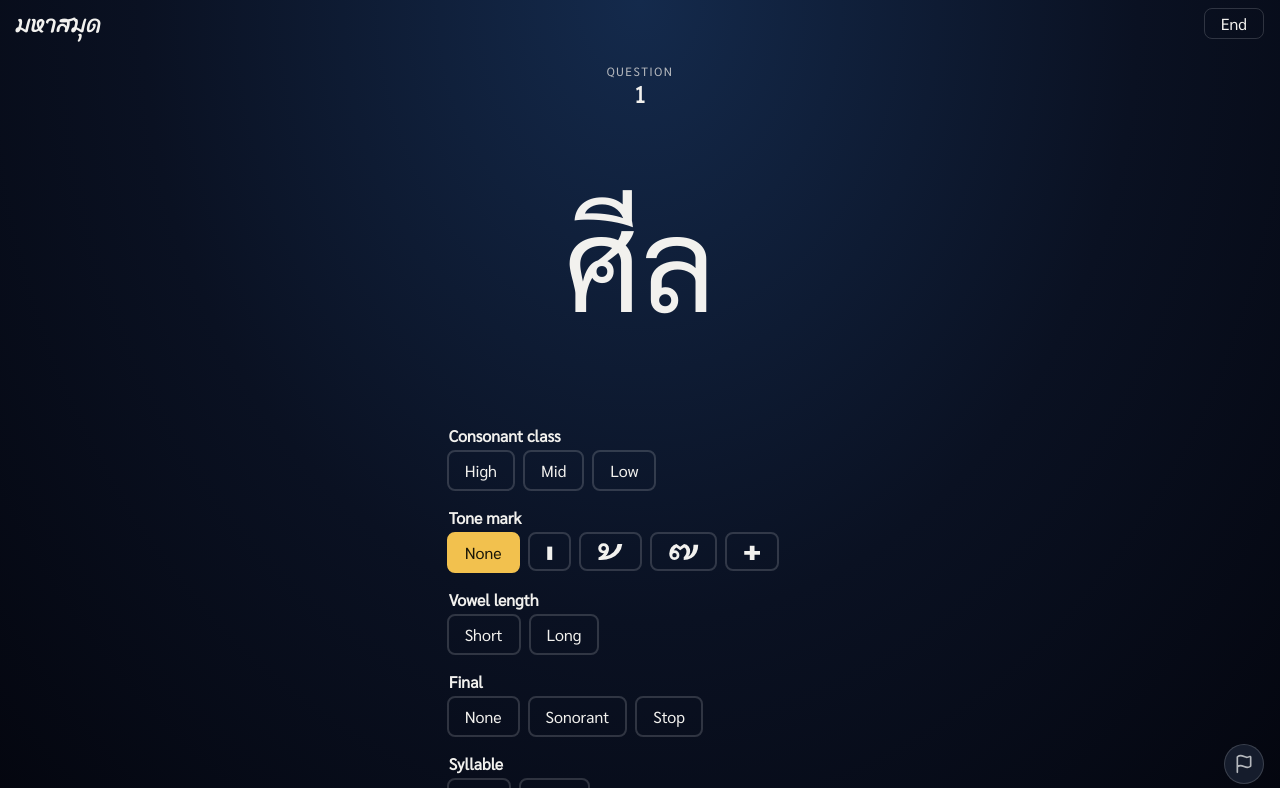
Scenario: SyllablePage › reporting a question › opens the window on the word shown, with the reasons of the game
The width and height of the screenshot is (1280, 788).
Click the button named "Report a problem with this question" at [1244, 764], box [1224,744,1264,784]
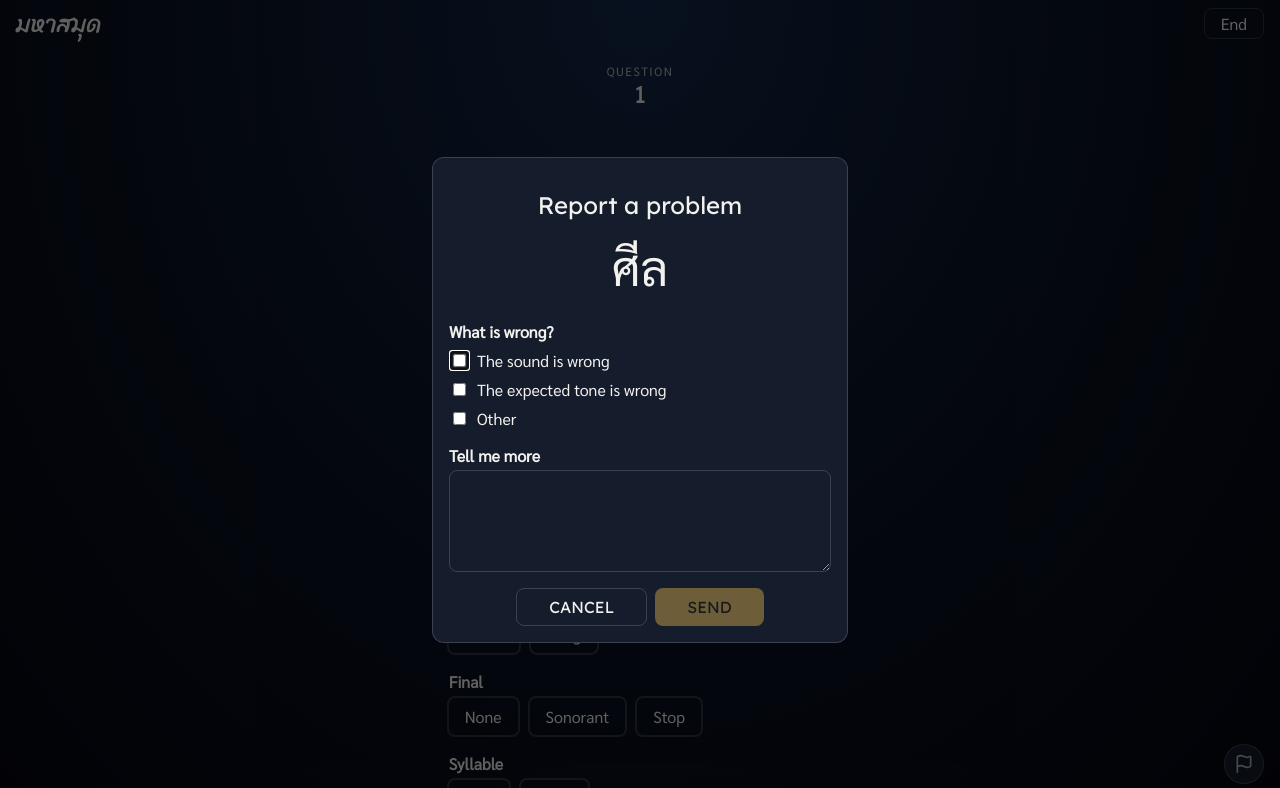
Check: the text "ศีล" below "Report a problem" is shown, box [612,235,668,297]
